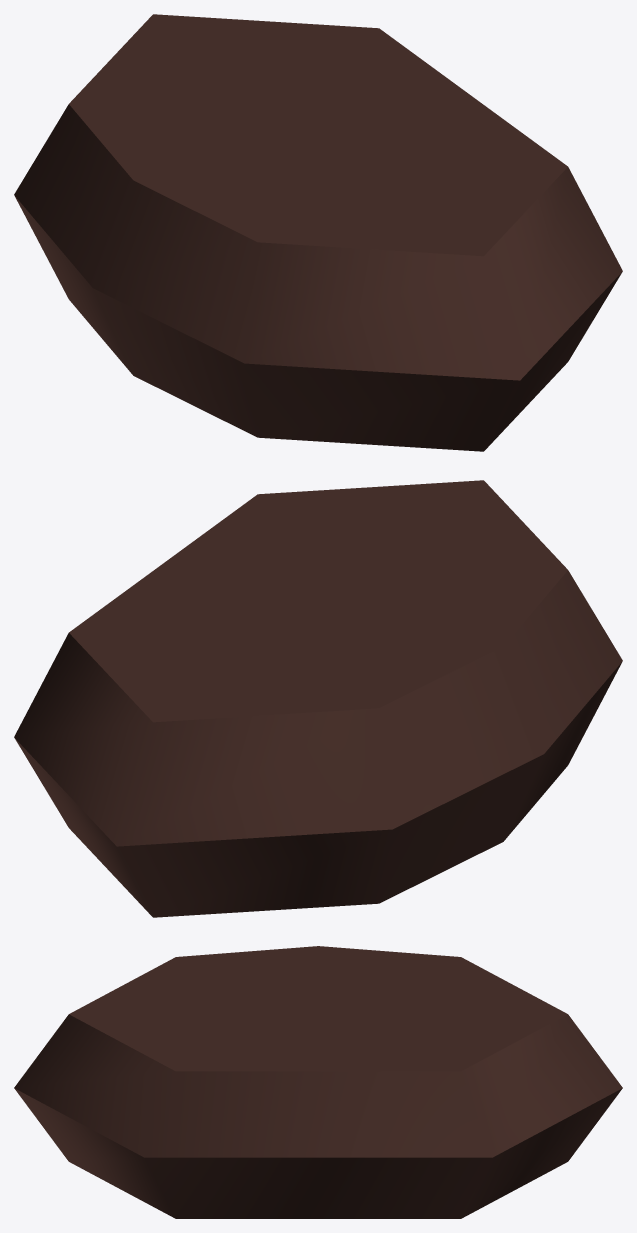
File: mussel.GLB
The picture shows the model from 3 angles, top to bottom: view 1: azimuth 30°, elevation 25°; view 2: azimuth 150°, elevation 25°; view 3: azimuth 270°, elevation 25°; orthographic projection. The views are drawn at different scales.
Parts seen in each view (by area): view 1: mussel; view 2: mussel; view 3: mussel.
Boxes of the visible parts, x1=… form: mussel: x1=14, y1=14, x2=622, y2=451; mussel: x1=14, y1=480, x2=622, y2=917; mussel: x1=14, y1=946, x2=622, y2=1218.
Size of the model in its own units: 0.0923 by 0.0415 by 0.1554.
